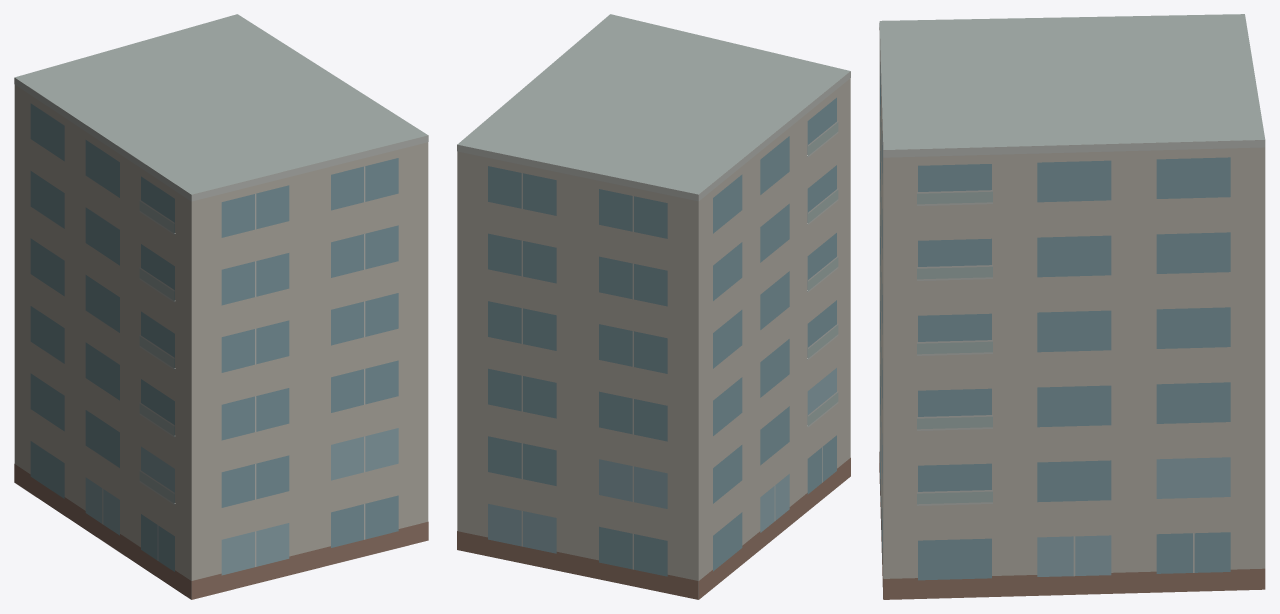
Rendered from survey-upis-32884987.glb.
The picture shows the model from 3 angles, left to right: view 1: azimuth 30°, elevation 25°; view 2: azimuth 150°, elevation 25°; view 3: azimuth 270°, elevation 25°; orthographic projection. The views are drawn at different scales.
Parts seen in each view (by area): view 1: survey-upis-32884987.tmp; view 2: survey-upis-32884987.tmp; view 3: survey-upis-32884987.tmp.
Boxes of the visible parts, x1,y1,x2,y2 form: survey-upis-32884987.tmp: [14, 14, 428, 599]; survey-upis-32884987.tmp: [457, 14, 850, 599]; survey-upis-32884987.tmp: [879, 14, 1265, 599].
Size of the model in its own units: 9.42 by 14.5 by 11.28.
